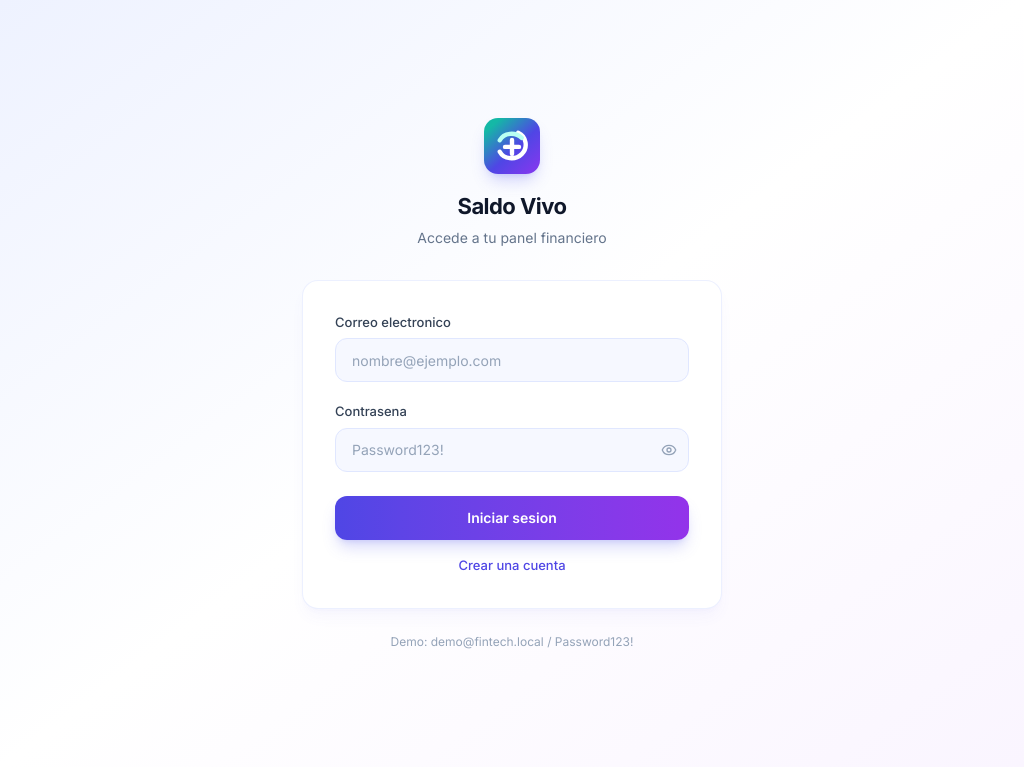
App › logs in and shows summary
Type "demo@fintech.local" into the field with placeholder "nombre@ejemplo.com". click: x=512, y=360
box: top-left (335, 338), bottom-right (689, 382)
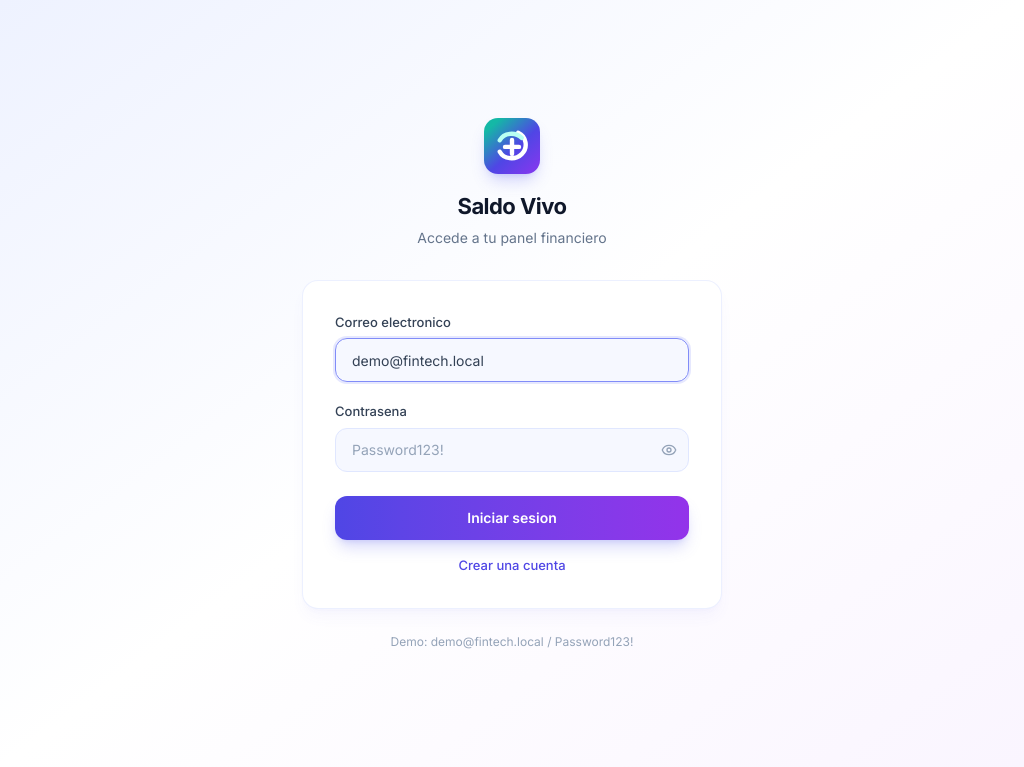
Type "Password123!" into the password field with placeholder "Password123!". click: x=512, y=450
box: top-left (335, 428), bottom-right (689, 472)
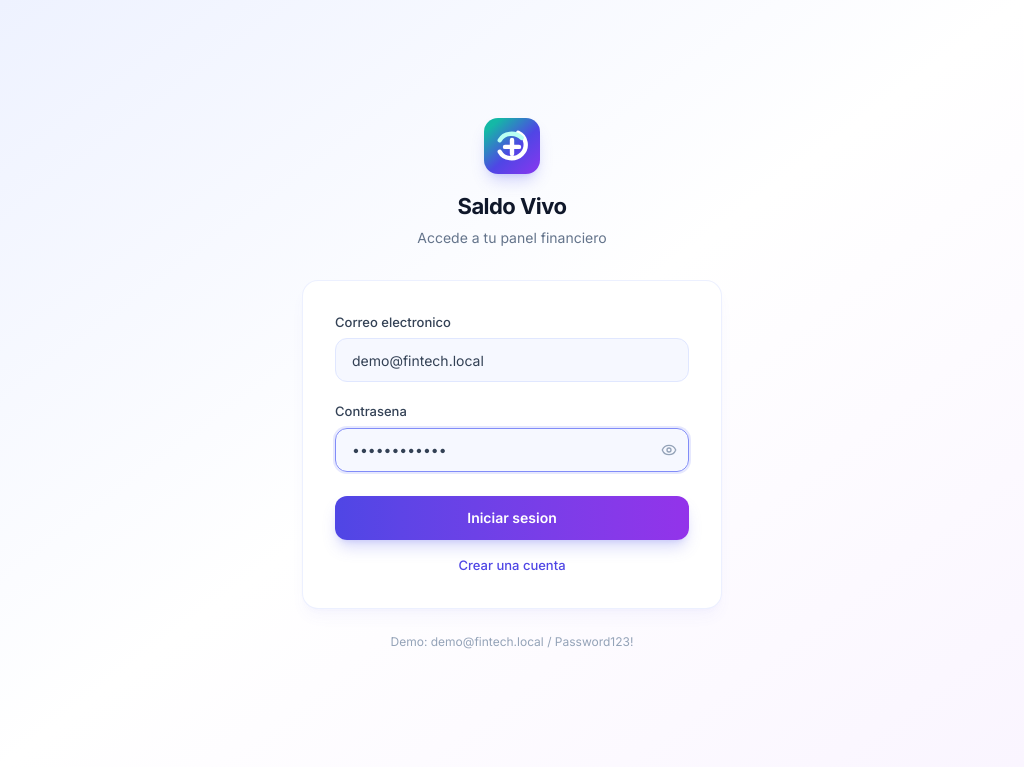
Click the button "Iniciar sesion". click: x=512, y=518
box: top-left (335, 496), bottom-right (689, 540)
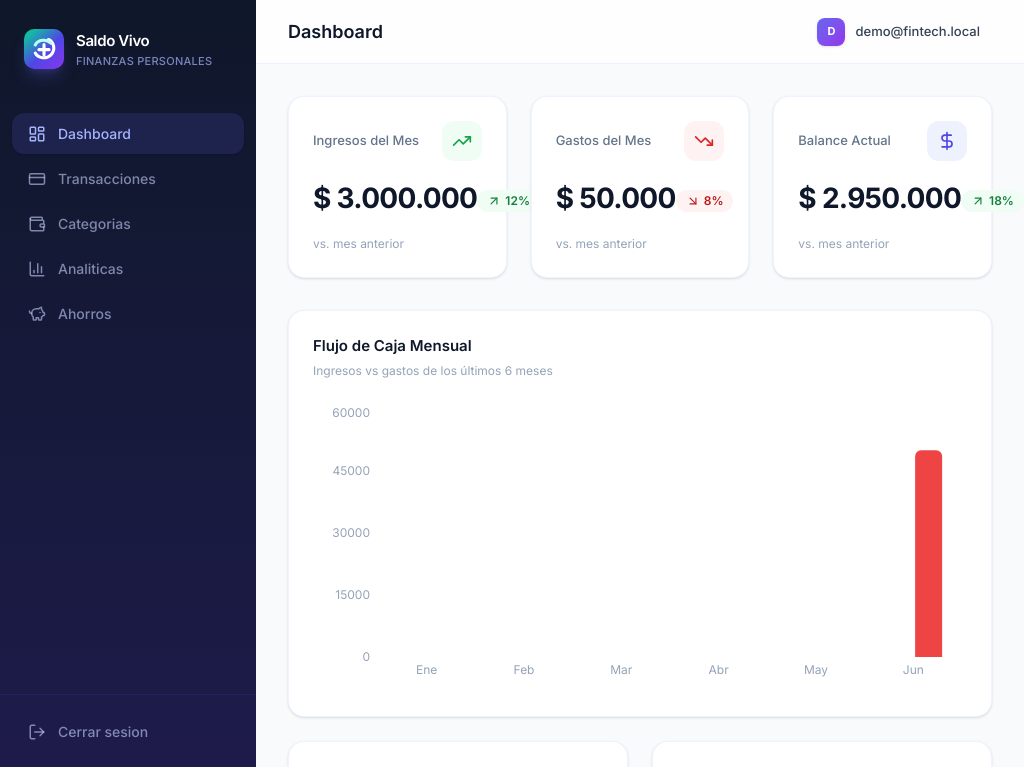
Expected: the text "$ 2.950.000" is shown, top-left (798, 177), bottom-right (961, 219)
